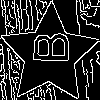B: (24, 30, 69, 65)
